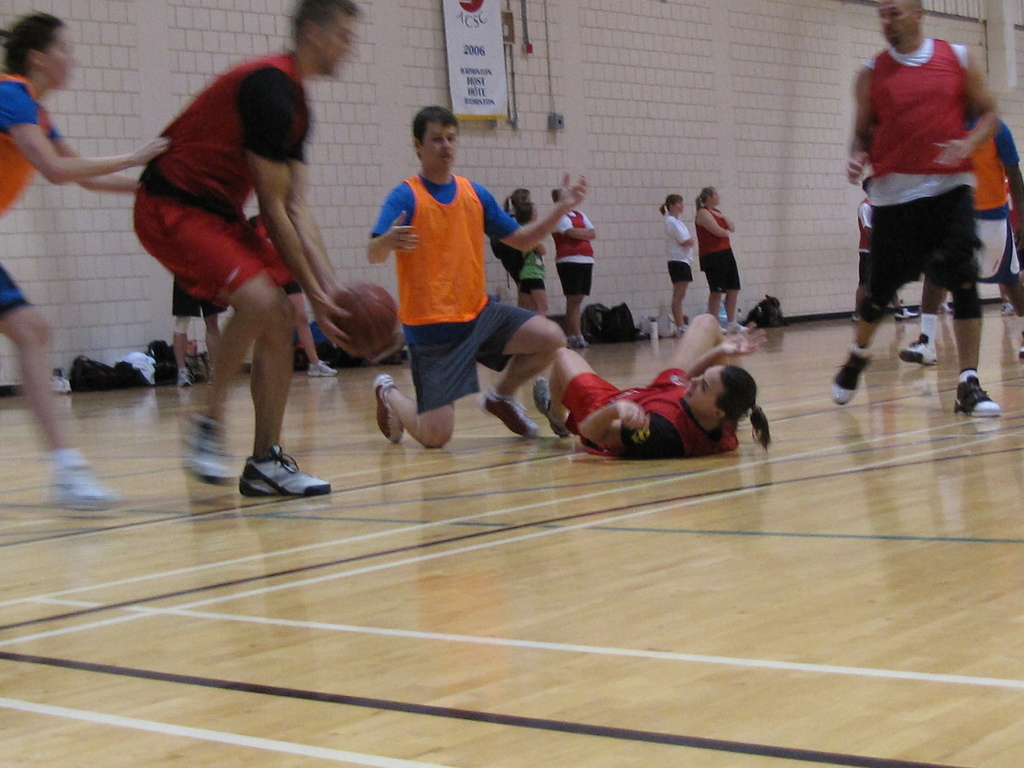Ball: (332, 282, 397, 357)
